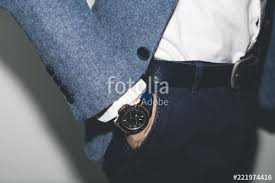F_belt: (128, 48, 272, 101)
